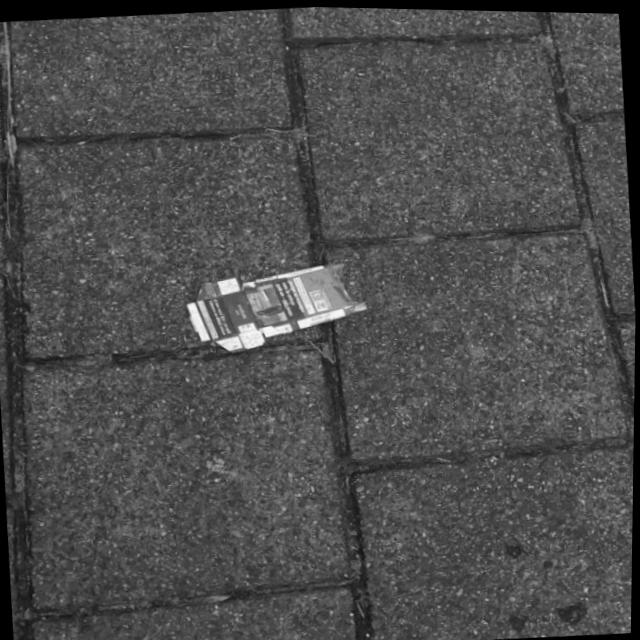Paper: (181, 255, 375, 359)
Plastic: (391, 491, 447, 542)
